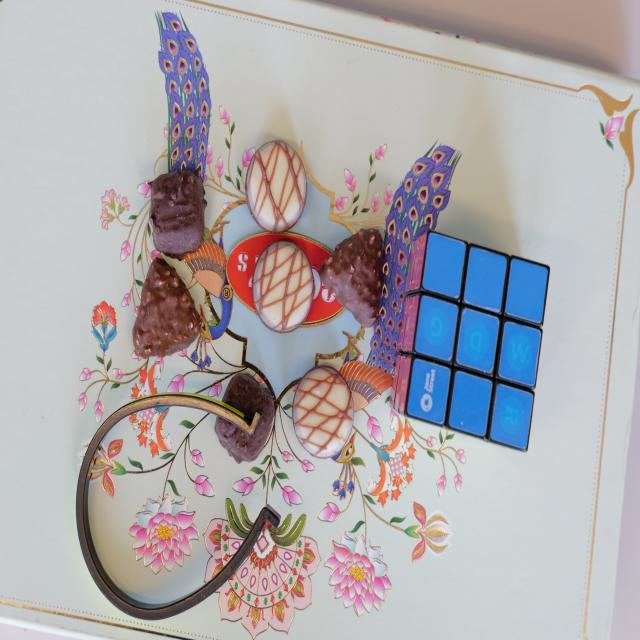Creme_brulee: (294, 366, 354, 461), (249, 140, 307, 232), (255, 242, 315, 330)
Tentation_noir: (219, 371, 275, 463), (148, 165, 206, 253)
Triangolo: (136, 258, 203, 359), (325, 226, 390, 328)
